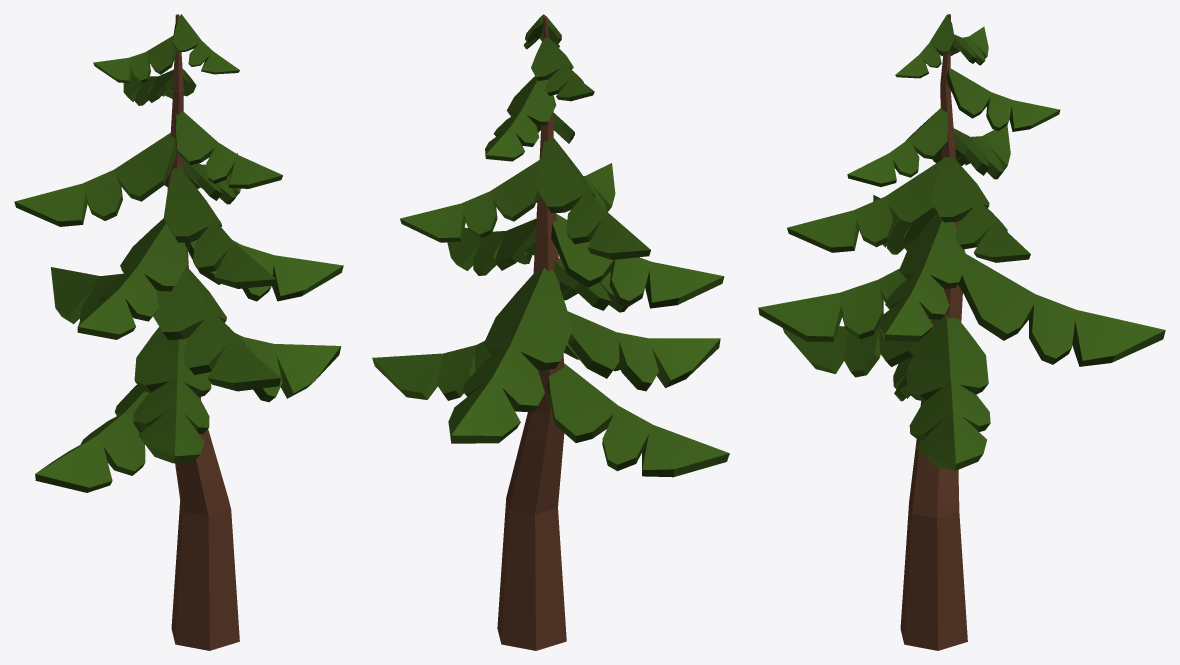
File: TreeFirDark.fbx
3 views of the same model, side by side, from view 1: azimuth 30°, elevation 25°; view 2: azimuth 150°, elevation 25°; view 3: azimuth 270°, elevation 25° (orthographic). The views are drawn at different scales.
Parts seen in each view (by area): view 1: TreeFirDark_LOD0; view 2: TreeFirDark_LOD0; view 3: TreeFirDark_LOD0.
Part boxes in pixels (x1,y1,x2,y2): TreeFirDark_LOD0: [14, 14, 343, 650]; TreeFirDark_LOD0: [372, 14, 729, 650]; TreeFirDark_LOD0: [758, 14, 1165, 650].
Size of what is drawn, in the model's own units: 544 by 979 by 591.
